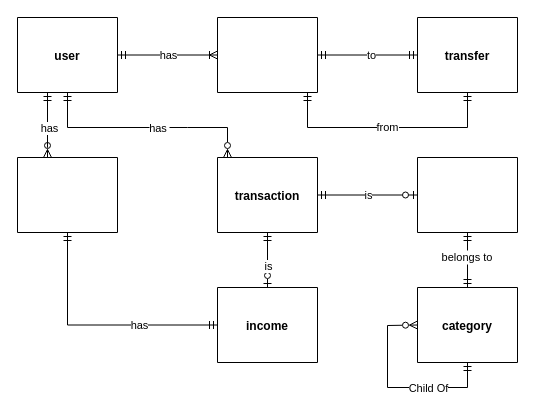
Some shapes in this 535 by 414 pixel diagram are drawn without their labels. Here are the shapes that lost their labels. From the top down, the centre of each, then its label:
At pixel 267 54: "wallet".
At pixel 67 194: "income source".
At pixel 467 194: "expense".
